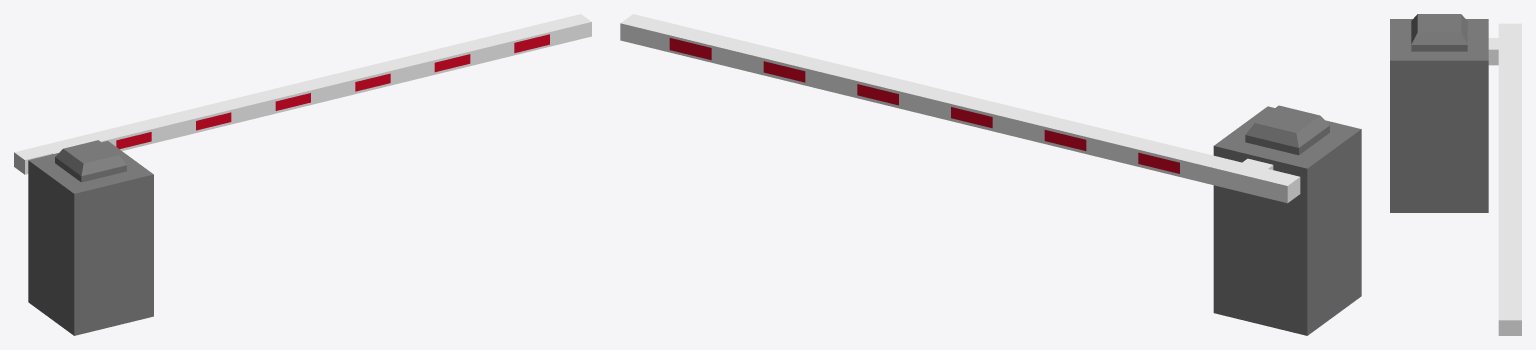
File: Car Barrier.fbx
3 renders of one model, left to right at view 1: azimuth 30°, elevation 25°; view 2: azimuth 150°, elevation 25°; view 3: azimuth 270°, elevation 25°, orthographic. The views are drawn at different scales.
Visible parts, largest first — view 1: Cube; view 2: Cube; view 3: Cube.
Boxes of the visible parts, x1,y1,x2,y2 form: Cube: [14, 14, 591, 335]; Cube: [620, 14, 1361, 335]; Cube: [1390, 14, 1521, 335].
Size of the model in its own units: 1428 by 378 by 267.
